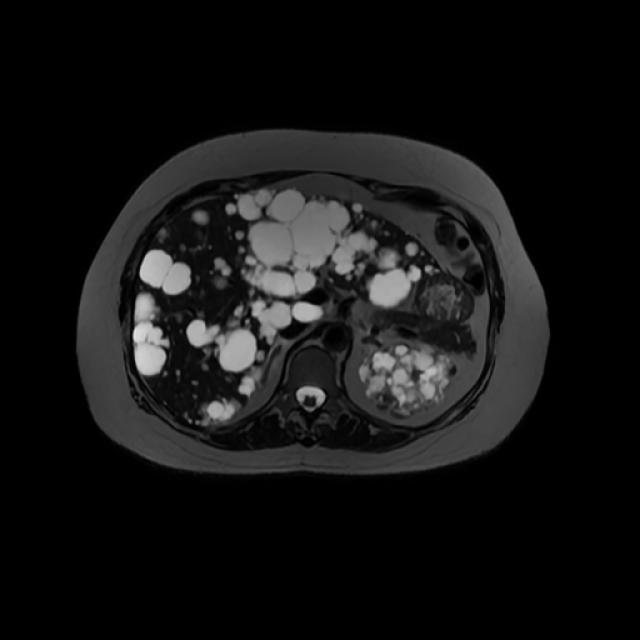sol: (363, 342, 456, 416)
